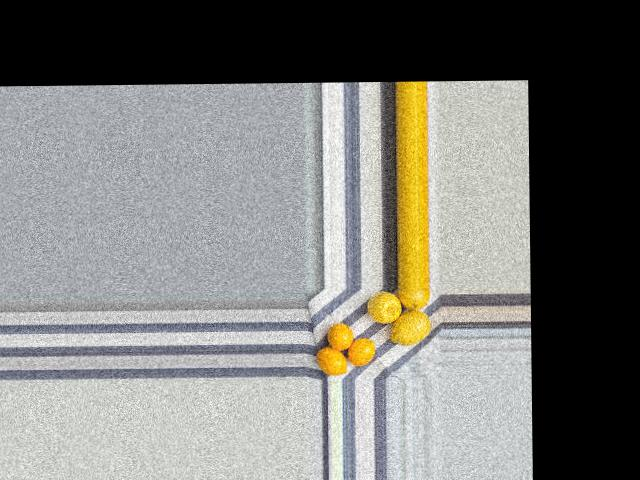lemon: (397, 287, 434, 311)
